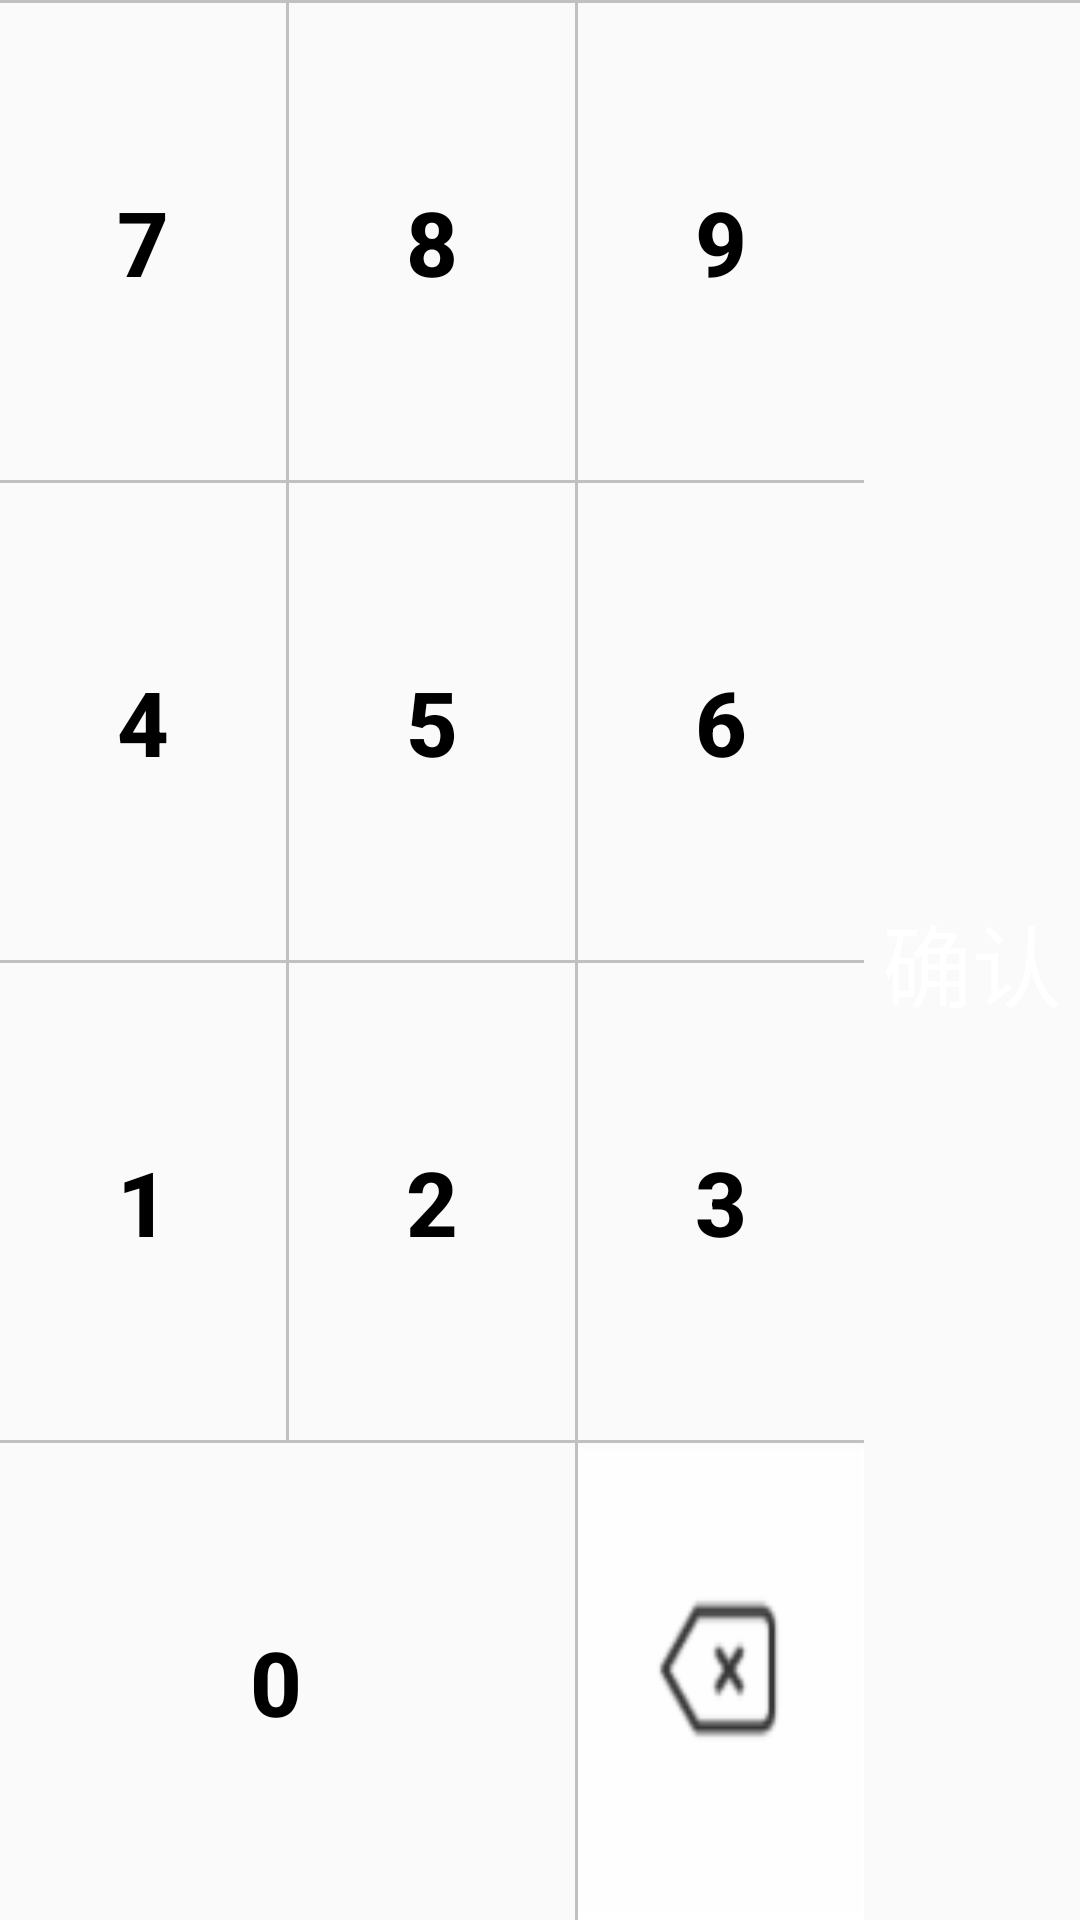

Icons on this 1080×1920 Android screen, each with its box as (x1, y1, x2, y2):
del selecotr: (659, 1601, 778, 1737)
